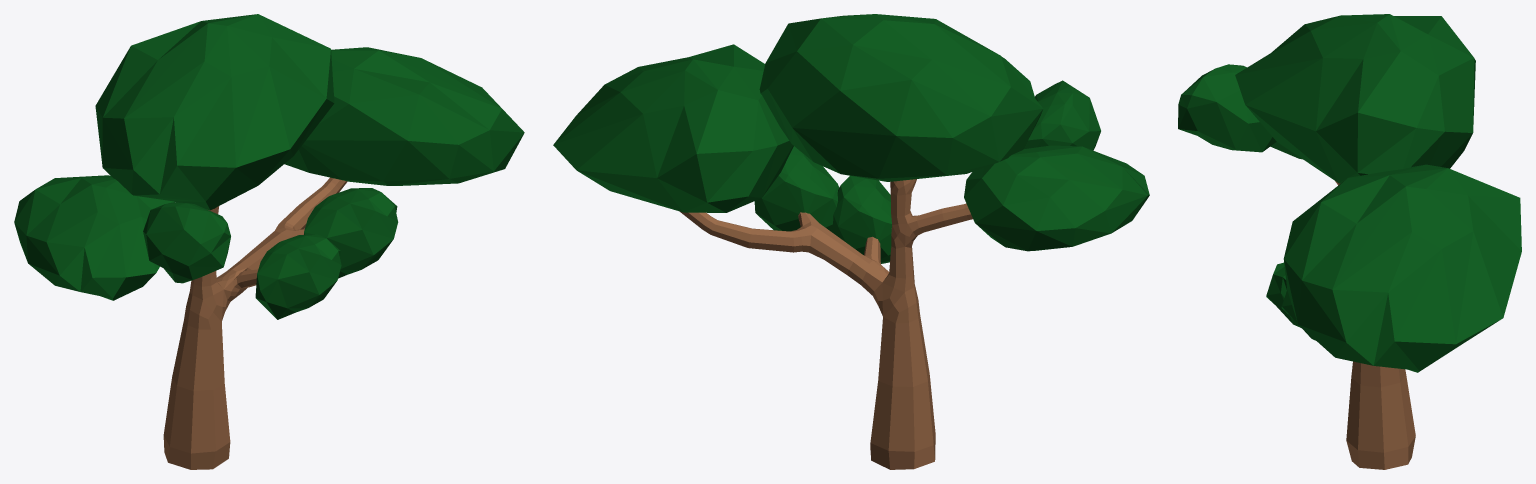
The model's file is tree_23.glb.
3 views of the same model, side by side, from view 1: azimuth 30°, elevation 25°; view 2: azimuth 150°, elevation 25°; view 3: azimuth 270°, elevation 25° (orthographic). The views are drawn at different scales.
Parts seen in each view (by area): view 1: body; view 2: body; view 3: body.
Part boxes in pixels (x1,y1,x2,y2): body: [14, 14, 524, 469]; body: [553, 14, 1149, 469]; body: [1178, 14, 1521, 469].
Size of the model in its own units: 1.99 by 1.63 by 1.12.
